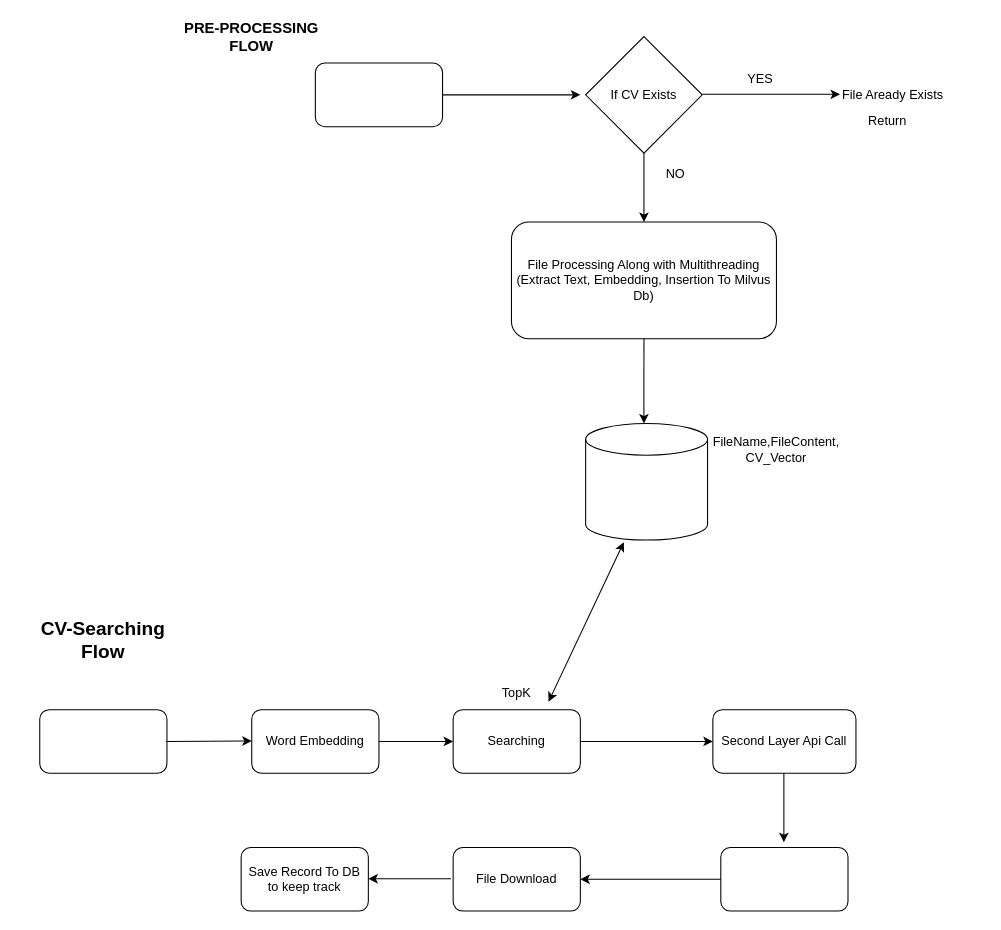
The diagram is 1001 pixels wide and 930 high, and some of its shapes have lost their labels. Each missing label, with the box of its shape:
Input HR Query: (39, 709, 167, 773)
Milvus DB: (585, 422, 708, 540)
Output With Reason: (720, 846, 848, 911)
Read All CVs: (314, 62, 443, 127)
